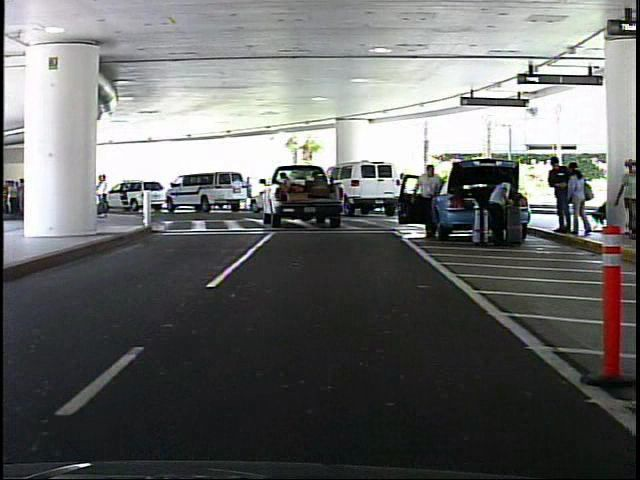person: (481, 170, 518, 249), (409, 161, 446, 240), (563, 158, 593, 238), (546, 153, 572, 238), (615, 156, 640, 236), (243, 174, 257, 211)
